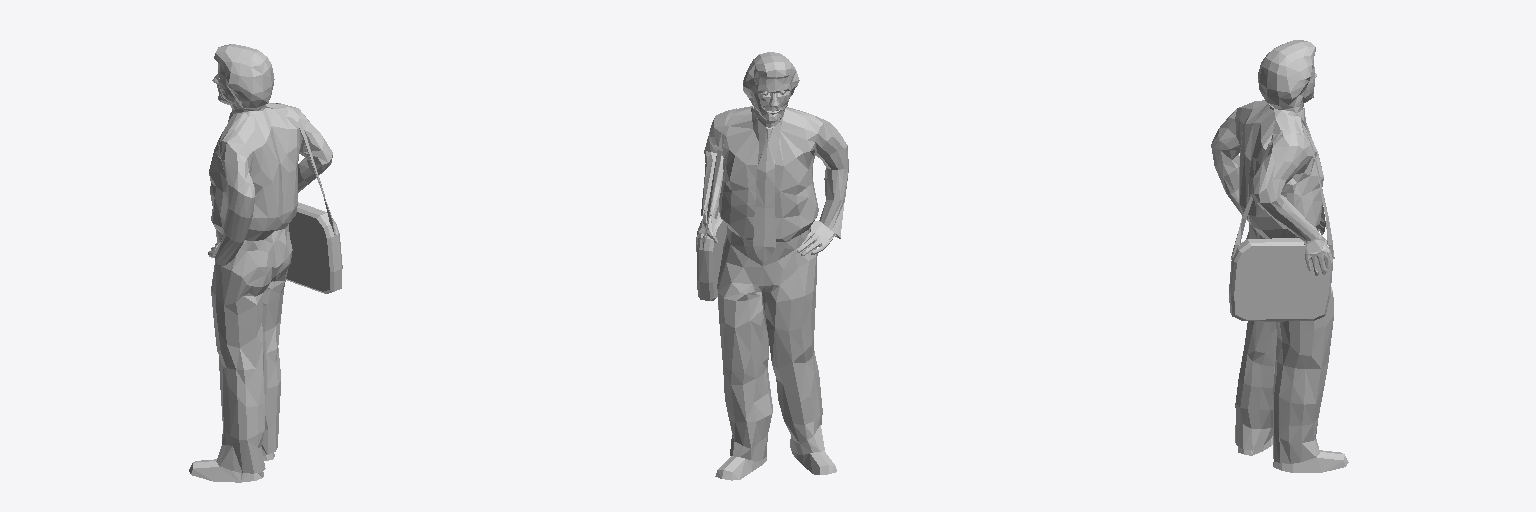
File: BMan0005-St.obj
3 views of the same model, side by side, from view 1: azimuth 30°, elevation 25°; view 2: azimuth 150°, elevation 25°; view 3: azimuth 270°, elevation 25° (orthographic).
Visible parts, largest first — view 1: bman0005_st_layer1; view 2: bman0005_st_layer1; view 3: bman0005_st_layer1.
Boxes of the visible parts, x1=… form: bman0005_st_layer1: x1=189, y1=44, x2=342, y2=482; bman0005_st_layer1: x1=696, y1=52, x2=848, y2=480; bman0005_st_layer1: x1=1211, y1=40, x2=1348, y2=472.
Bounding box in the file's own units: 0.6212 × 1.82 × 0.552.